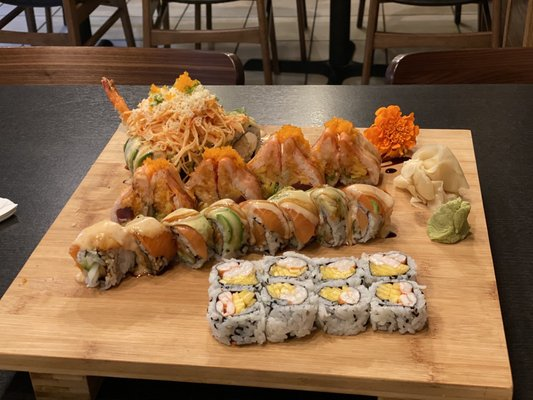curry: (30, 82, 530, 400)
pasta: (359, 0, 506, 82), (142, 0, 271, 81), (0, 0, 138, 48), (60, 0, 138, 48)
